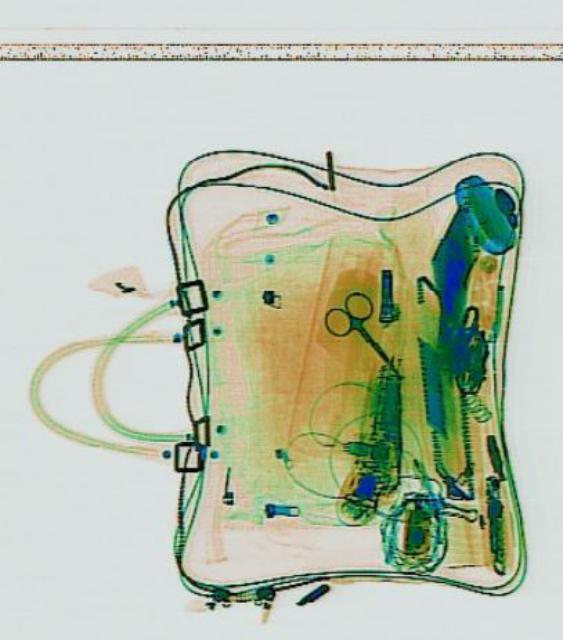Scissors: (315, 283, 413, 389)
